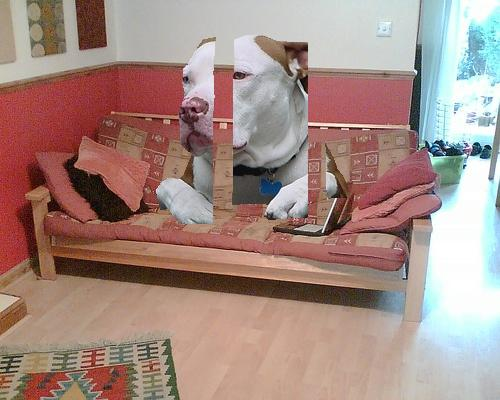tampered: (157, 36, 351, 224)
